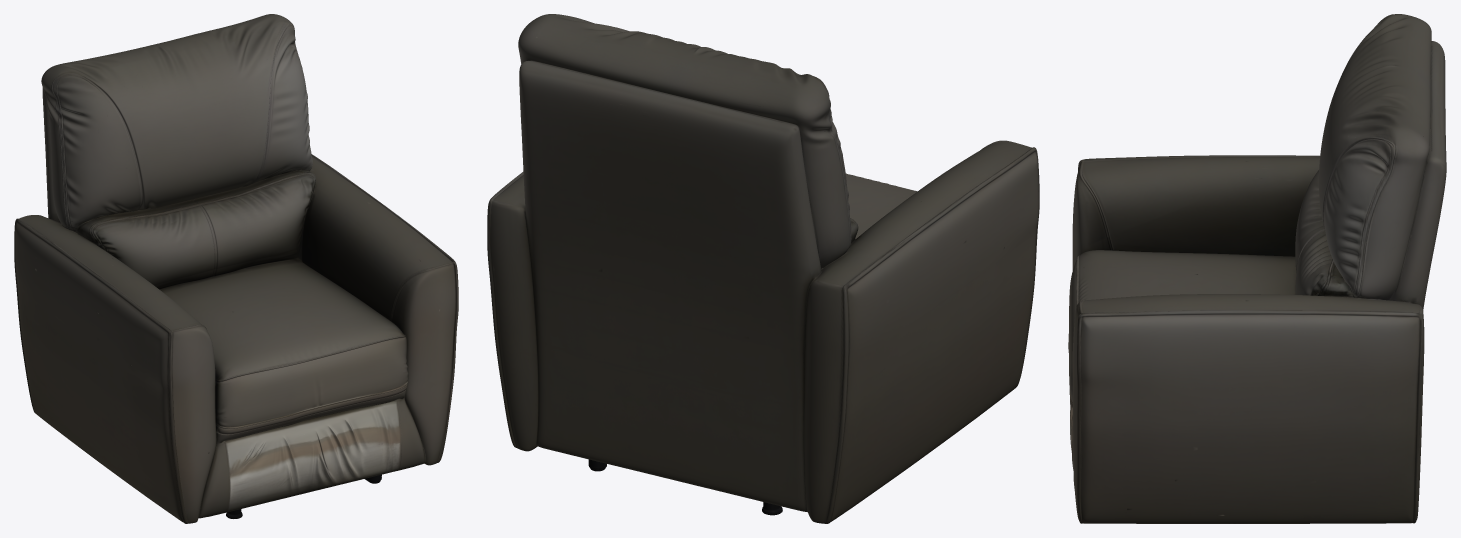
The picture shows the model from 3 angles, left to right: view 1: azimuth 30°, elevation 25°; view 2: azimuth 150°, elevation 25°; view 3: azimuth 270°, elevation 25°; orthographic projection. The views are drawn at different scales.
Visible parts, largest first — view 1: node_0; view 2: node_0; view 3: node_0.
Part boxes in pixels (<box>): node_0: <box>14,14,458,523</box>; node_0: <box>487,14,1039,523</box>; node_0: <box>1068,14,1446,523</box>.
Bounding box in the file's own units: 0.7323 × 0.8325 × 0.7187.
Materials: 1 (1 with a texture image).
